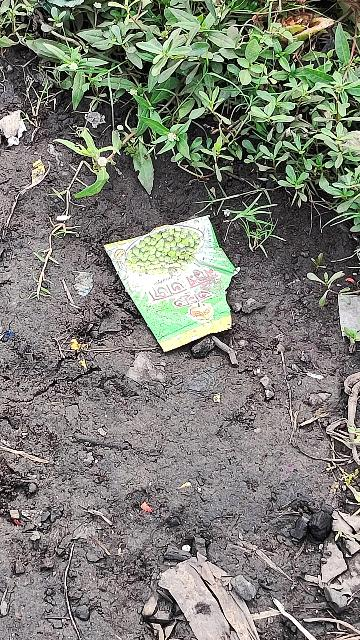packet: (93, 197, 269, 372)
